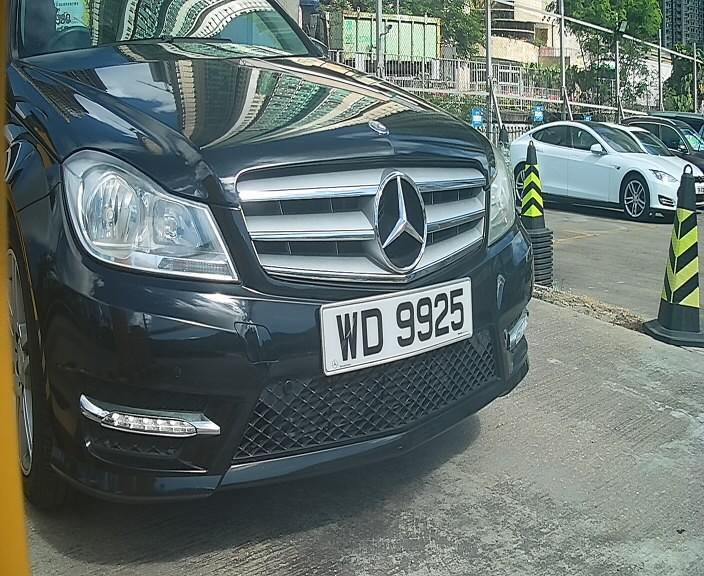License Plate: (312, 276, 481, 371)
